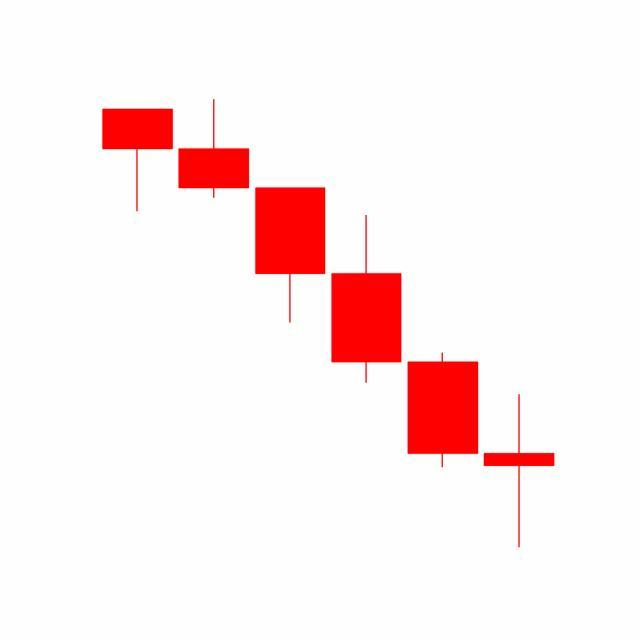Marubozu: (404, 352, 482, 470)
